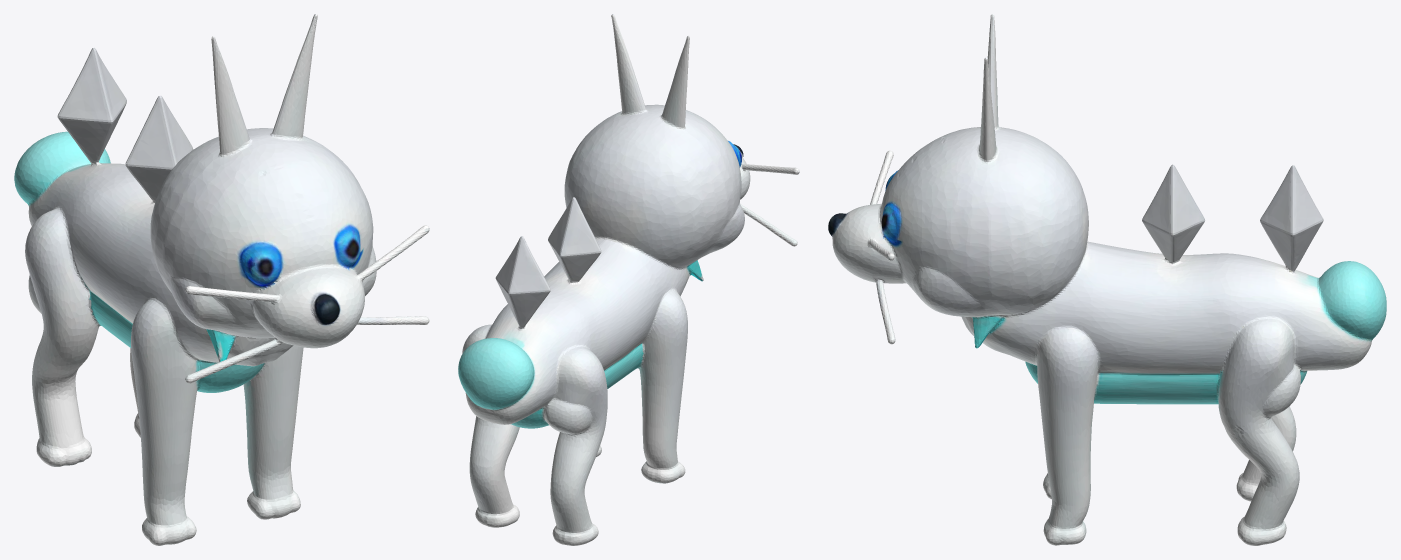
The model's file is creature-031.glb.
3 views of the same model, side by side, from view 1: azimuth 30°, elevation 25°; view 2: azimuth 150°, elevation 25°; view 3: azimuth 270°, elevation 25° (orthographic). The views are drawn at different scales.
Visible parts, largest first — view 1: tmpcvkq_apo.ply; view 2: tmpcvkq_apo.ply; view 3: tmpcvkq_apo.ply.
Part boxes in pixels (<box>): tmpcvkq_apo.ply: <box>14,14,429,545</box>; tmpcvkq_apo.ply: <box>458,14,799,545</box>; tmpcvkq_apo.ply: <box>828,14,1386,545</box>.
Bounding box in the file's own units: 0.9155 × 1.91 × 1.99.
Materials: 1 (1 with a texture image).
